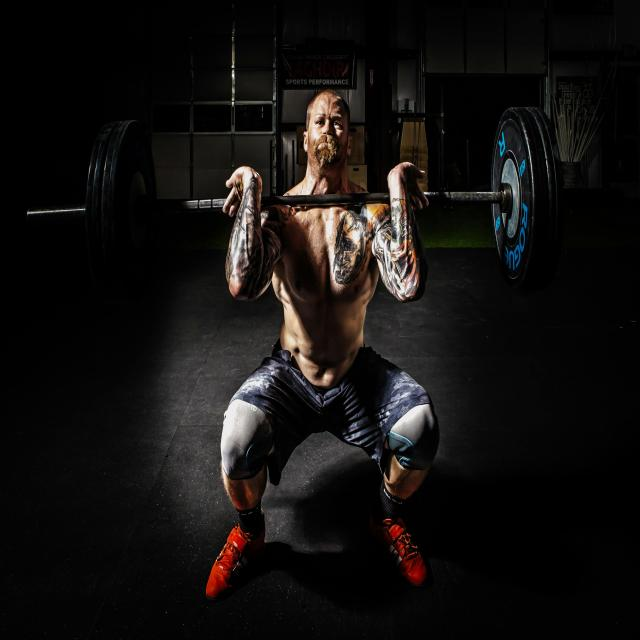sit: (235, 64, 436, 572)
